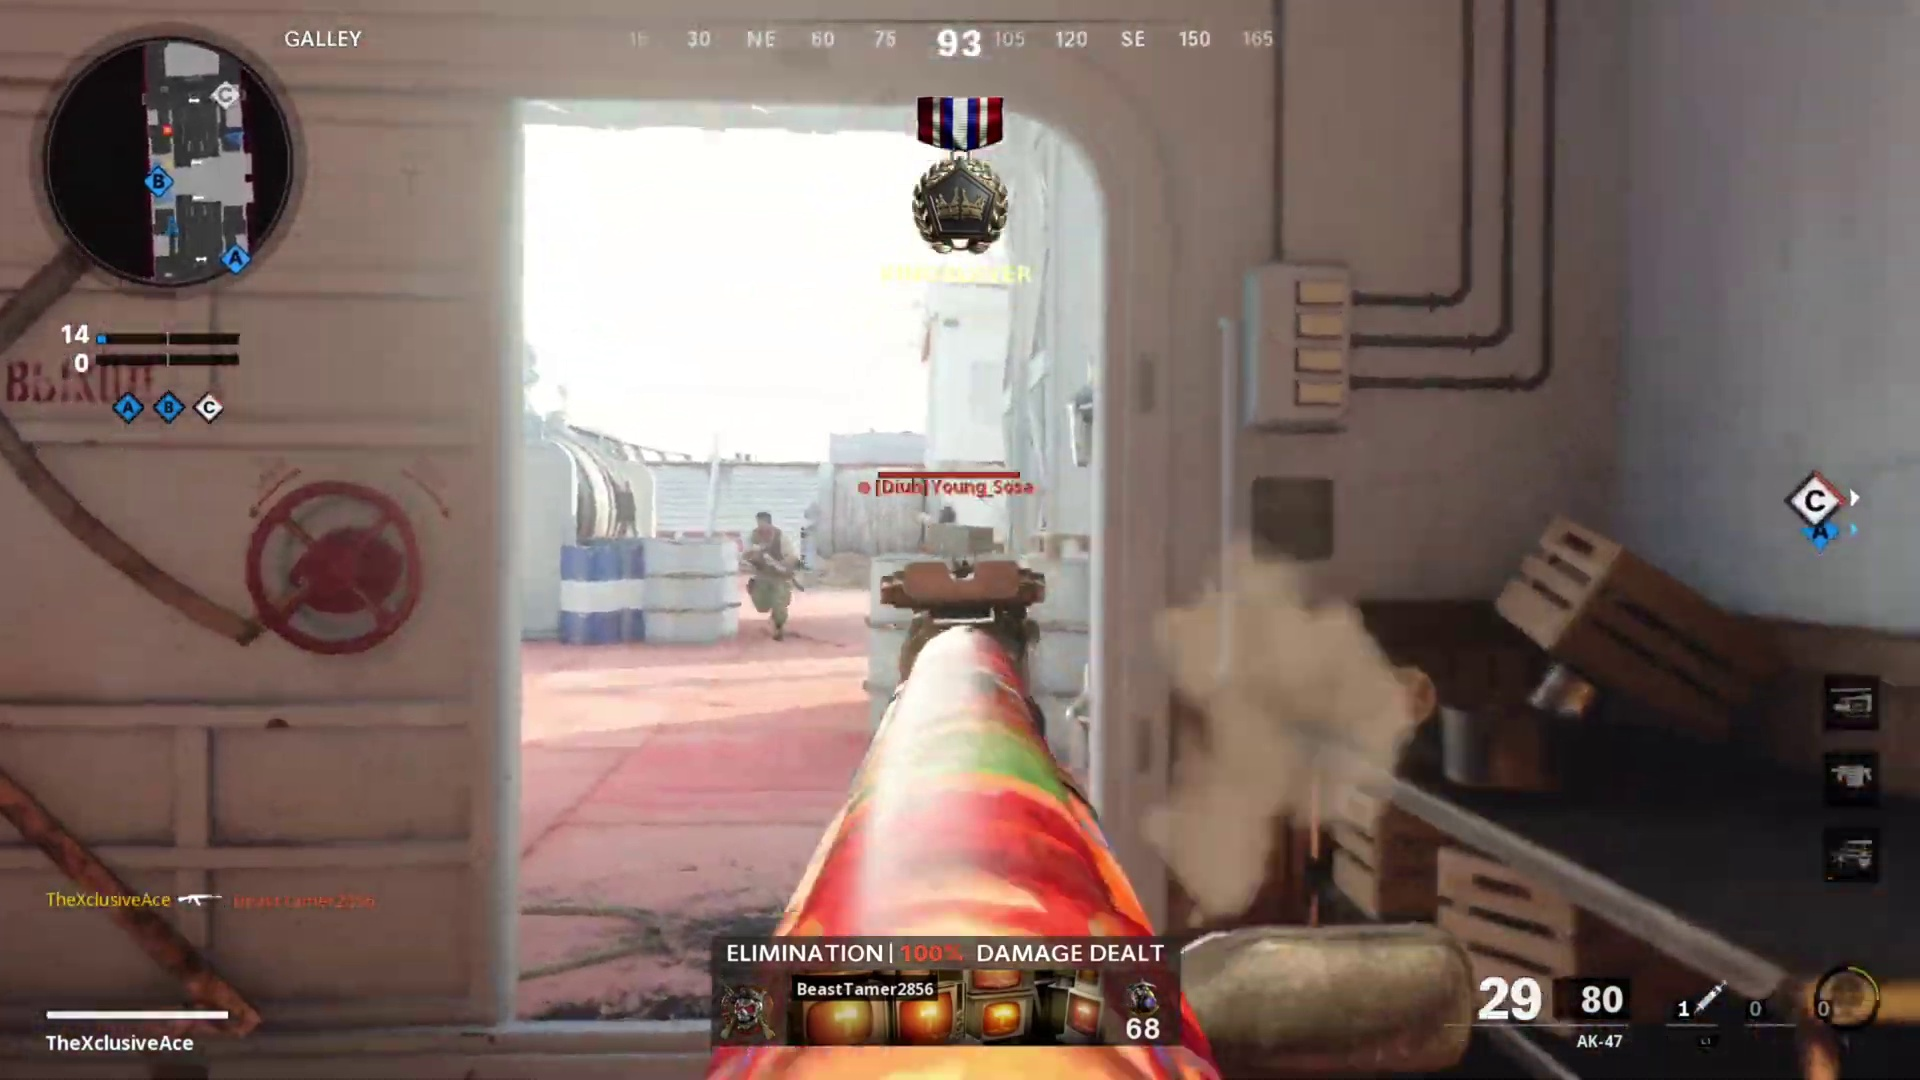head: (751, 510, 777, 541), (927, 503, 958, 528)
person: (738, 508, 801, 639)
